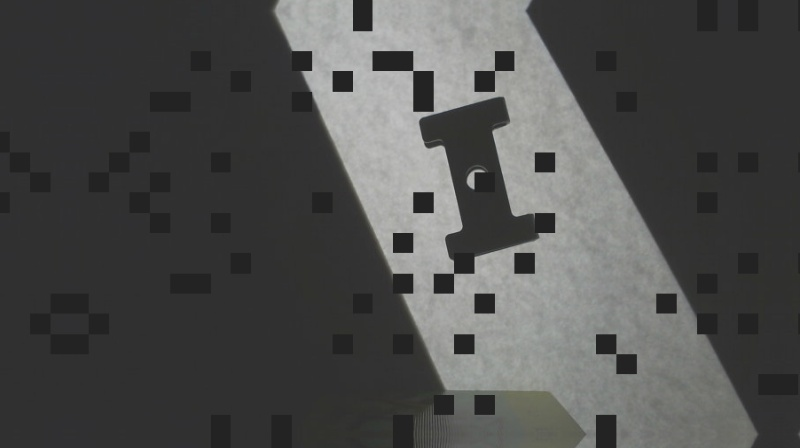O002: (415, 94, 542, 264)
